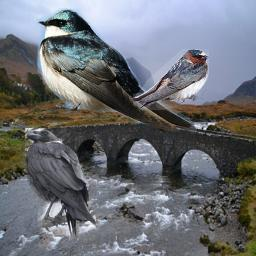Crow: (25, 128, 96, 240)
Swallow: (36, 8, 197, 134), (133, 49, 209, 110)
